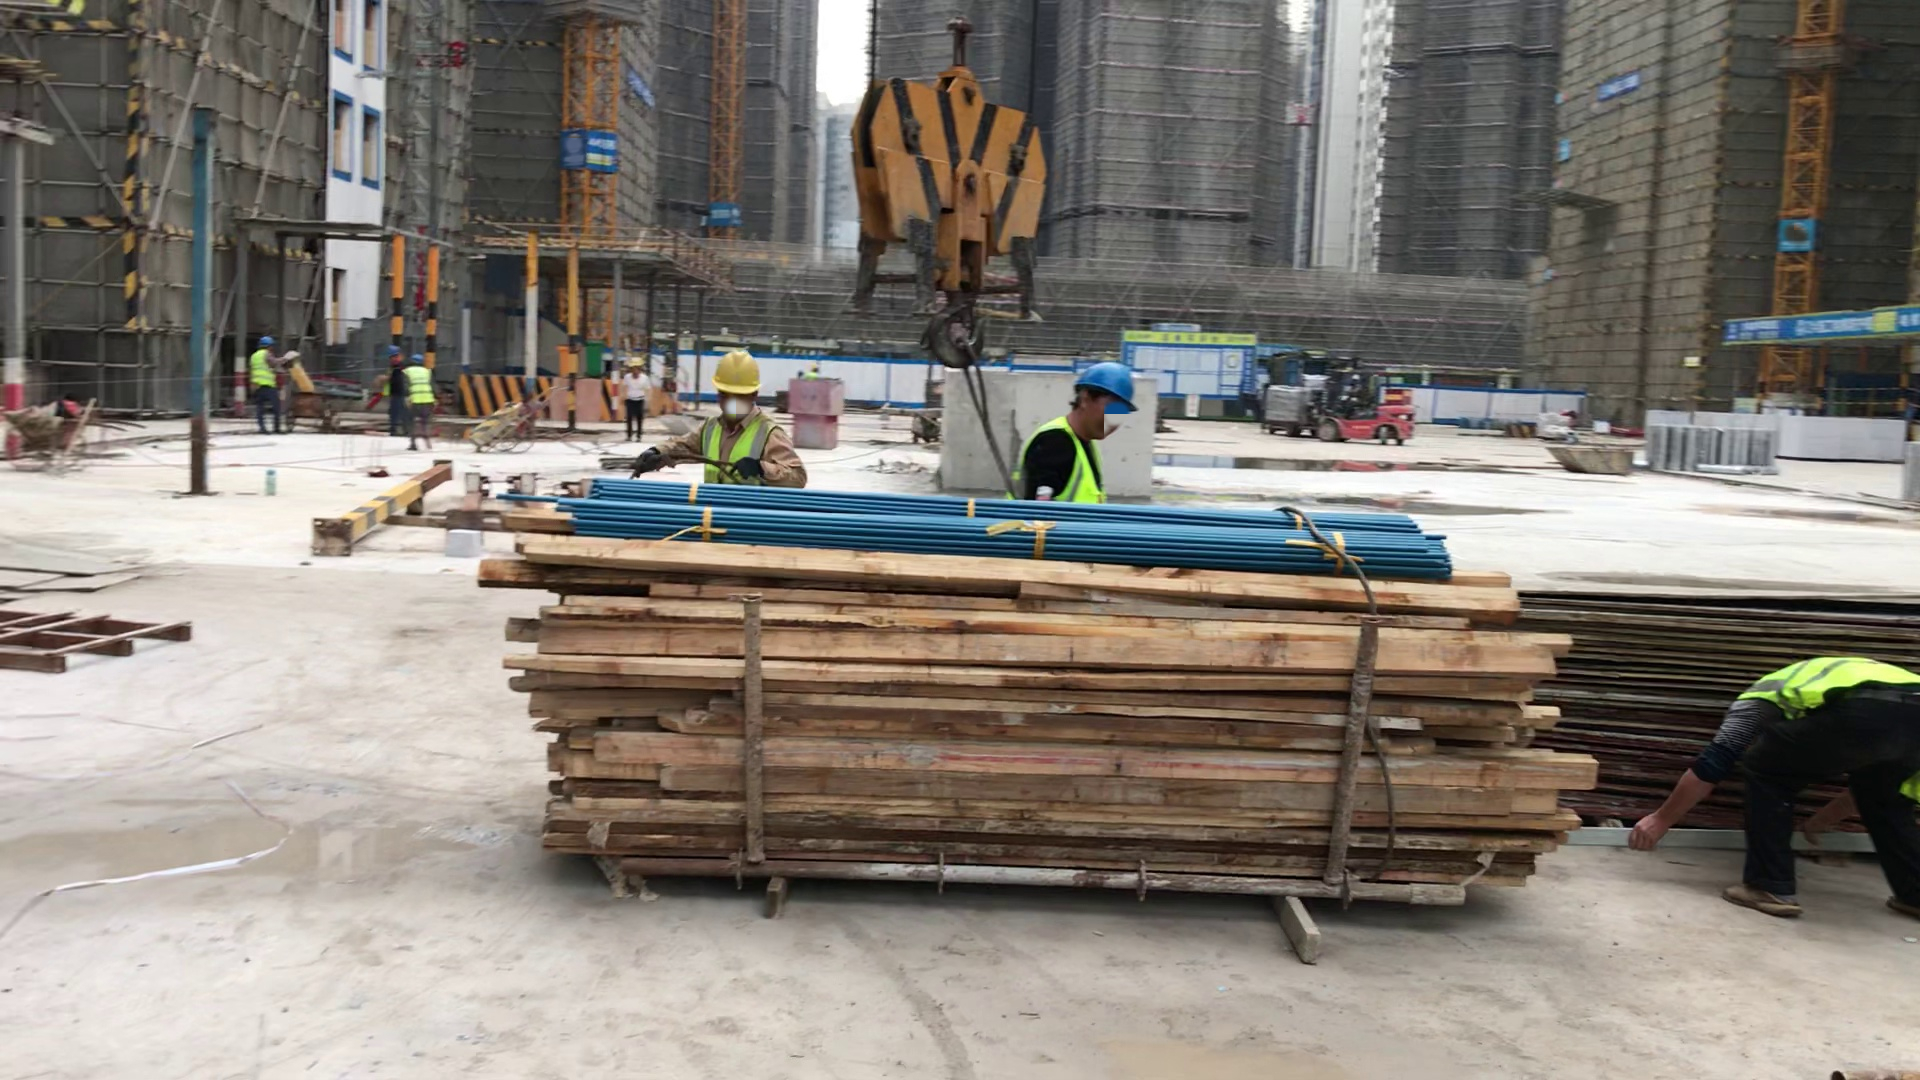board: (1508, 547, 1920, 834)
brick: (1653, 405, 1913, 474)
handcart: (449, 378, 569, 465), (2, 388, 103, 484)
helmet: (702, 340, 770, 408), (1066, 348, 1137, 412), (250, 330, 286, 351), (619, 354, 649, 373), (407, 349, 431, 368), (809, 359, 821, 371)
hook: (837, 14, 1110, 373)
hopper: (650, 405, 717, 442)
person: (1616, 636, 1920, 934), (621, 345, 811, 503), (1007, 349, 1146, 520), (239, 320, 297, 451), (399, 345, 442, 456), (615, 349, 651, 447), (380, 335, 407, 440), (801, 353, 827, 377)
slogan: (1718, 296, 1920, 362), (1117, 320, 1263, 404), (554, 107, 629, 191), (1767, 200, 1825, 259), (1583, 58, 1653, 103), (622, 59, 667, 114), (688, 196, 754, 230), (1552, 132, 1584, 165)
vest: (1730, 646, 1920, 814), (1009, 409, 1118, 514), (690, 404, 779, 481), (396, 365, 439, 414), (246, 349, 280, 393)
wood: (460, 464, 1652, 984)
